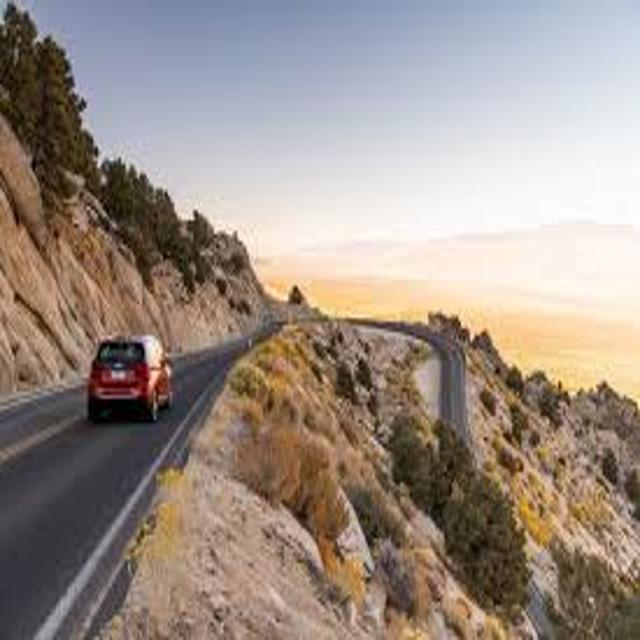car: (88, 336, 173, 420)
